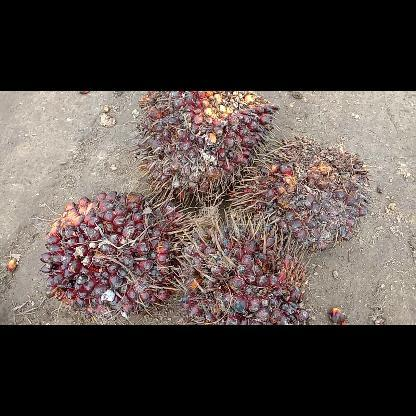TBS masak: (40, 192, 190, 318), (129, 91, 277, 207), (229, 136, 373, 252), (177, 208, 309, 324)
